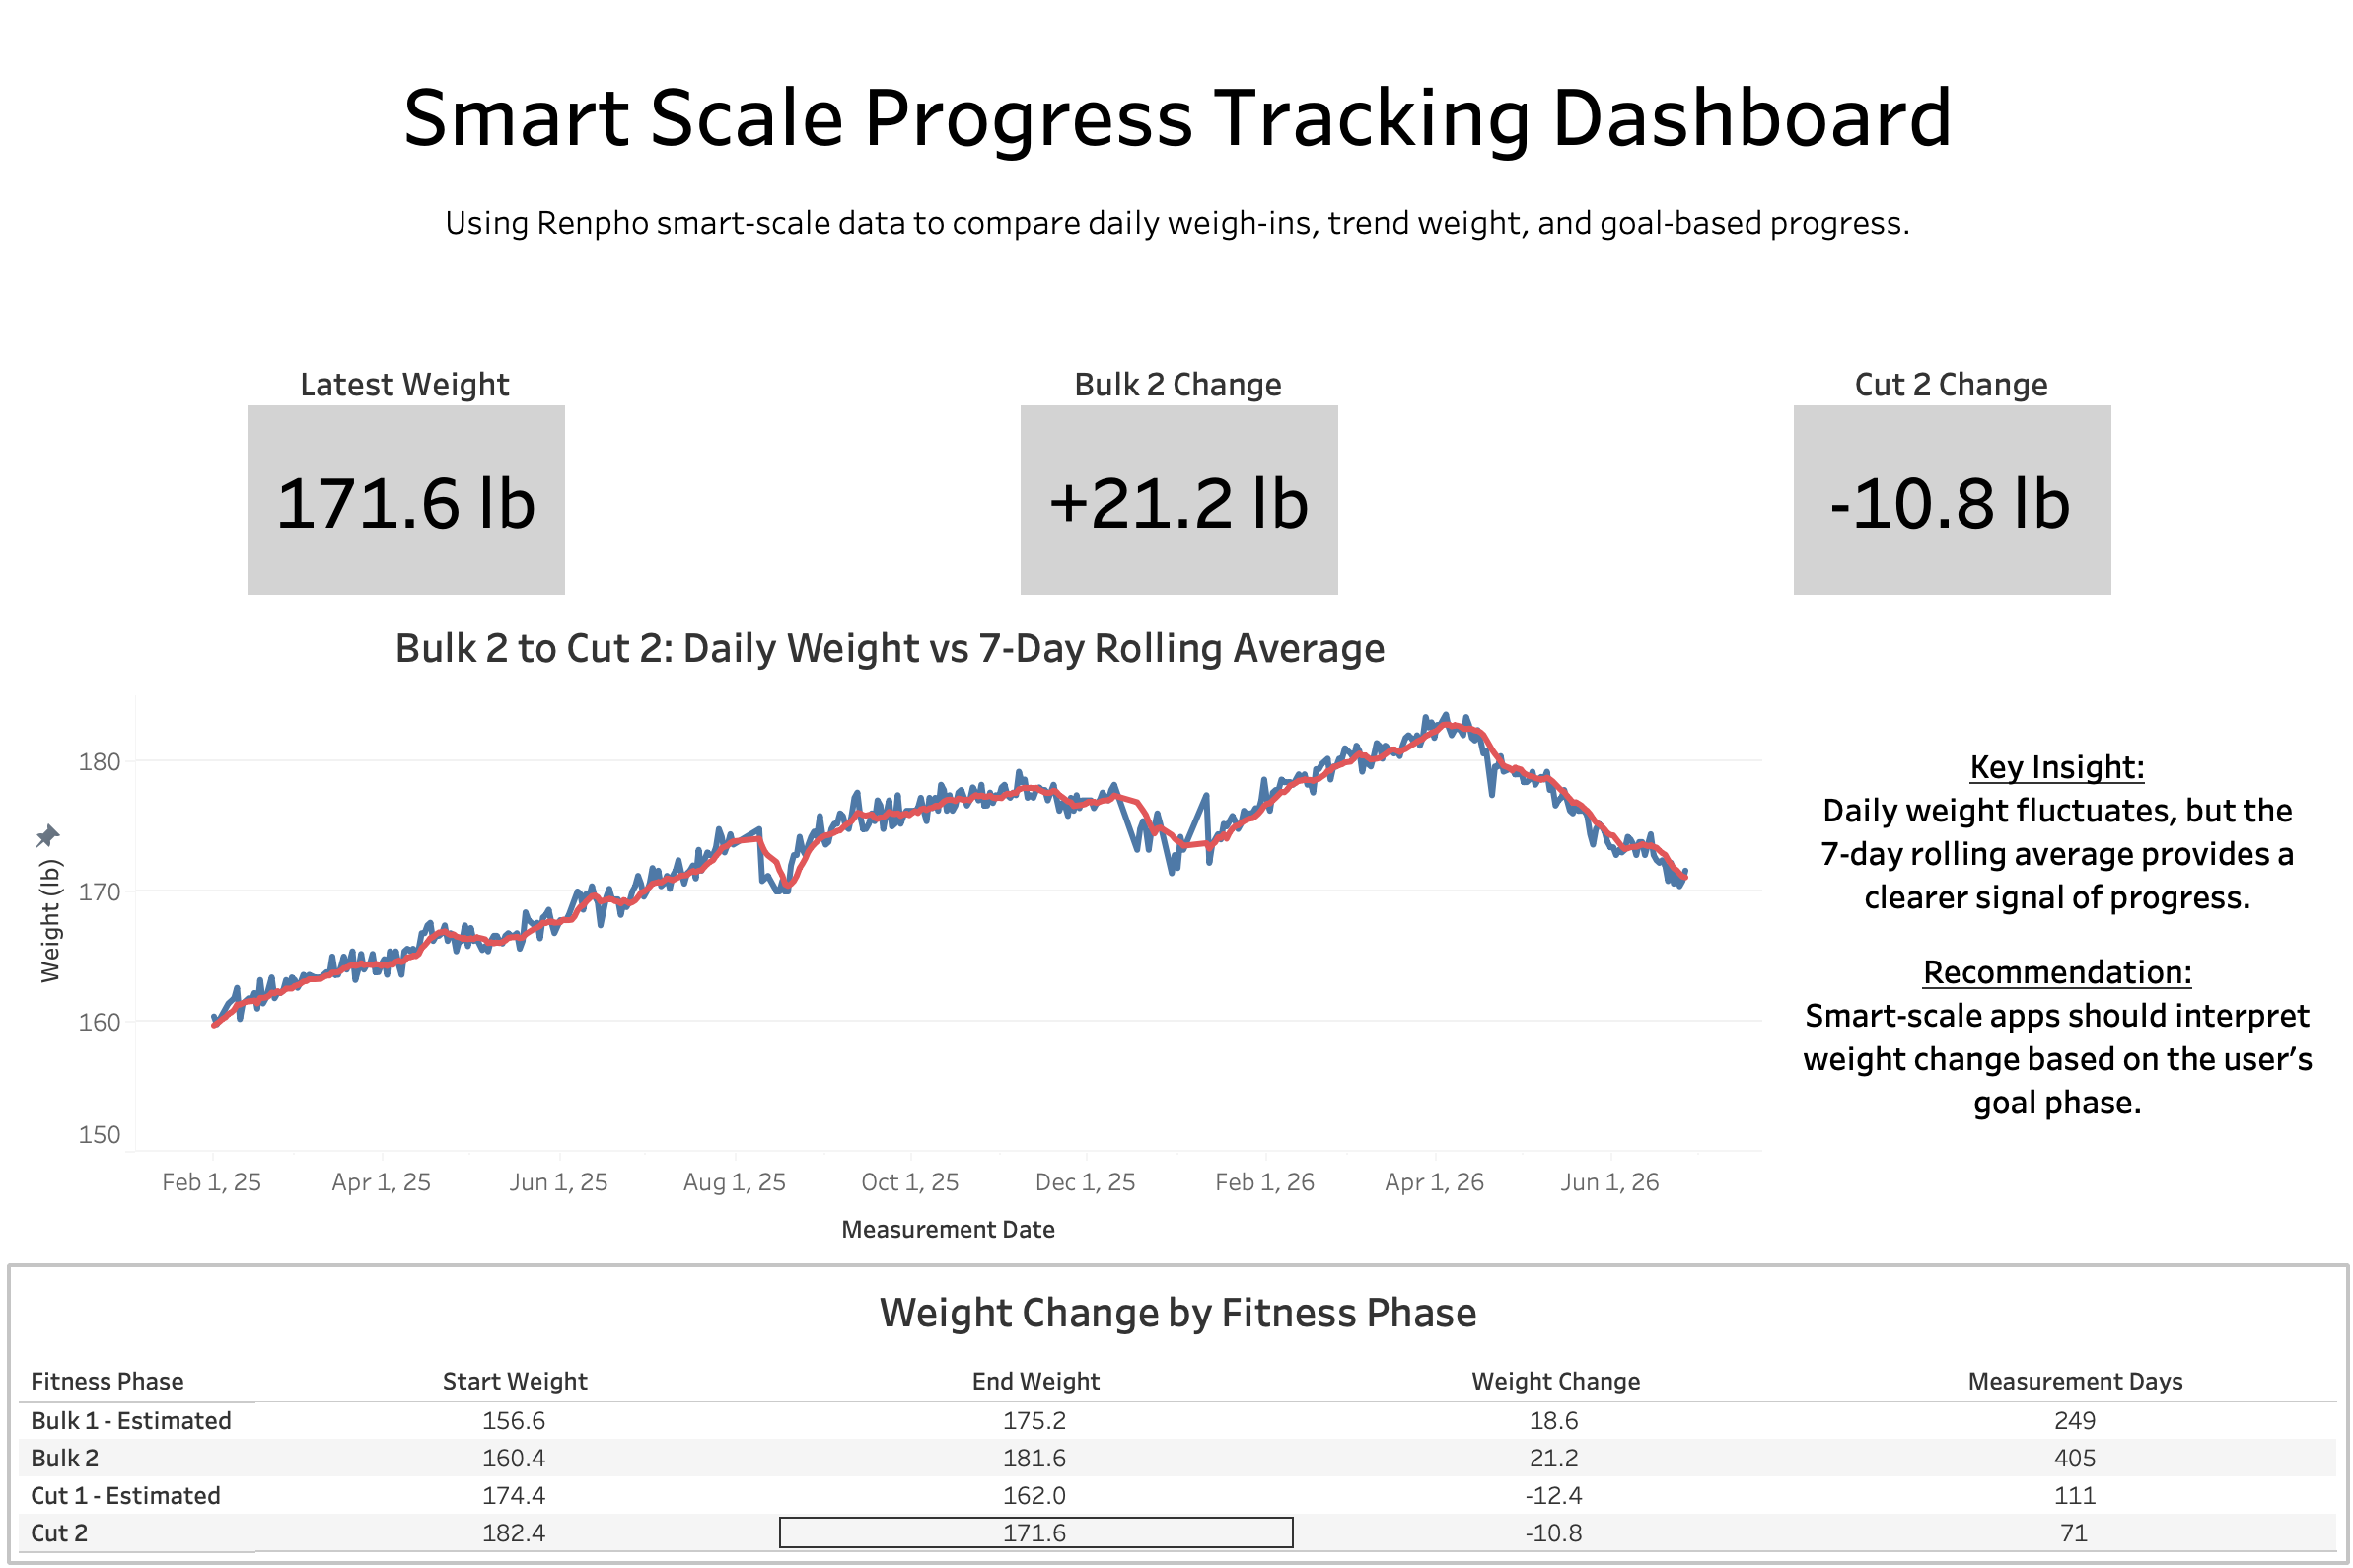

The dashboard page shown, as its layout file describes it:
{"tool":"tableau","page":{"name":"Dashboard 1","canvas":[1200,800],"ordinal":0},"visuals":[{"type":"text","box":[8,8,1184,139]},{"type":"worksheet","title":"KPI - Summary","mark":"Square","box":[8,147,1184,159]},{"type":"worksheet","title":"Bulk 2 to Cut 2: Daily Weight vs 7-Day Rolling Average","mark":"Automatic","cols":["measurement_date"],"box":[8,306,892,337]},{"type":"text","box":[900,306,292,337]},{"type":"worksheet","title":"Weight Change by Fitness Phase","mark":"Text","rows":["fitness_phase"],"box":[8,643,1184,149]}]}

Visuals, with their boxes in screenshot pixels (x1, y1, x2, y2), scaled from the page's 1200x800 canvas onto the 2353x1568 screenshot:
text: (left=16, top=16, right=2337, bottom=288)
"KPI - Summary" worksheet (Square marks): (left=16, top=288, right=2337, bottom=600)
"Bulk 2 to Cut 2: Daily Weight vs 7-Day Rolling Average" worksheet: (left=16, top=600, right=1765, bottom=1260)
text: (left=1765, top=600, right=2337, bottom=1260)
"Weight Change by Fitness Phase" worksheet (Text marks): (left=16, top=1260, right=2337, bottom=1552)
